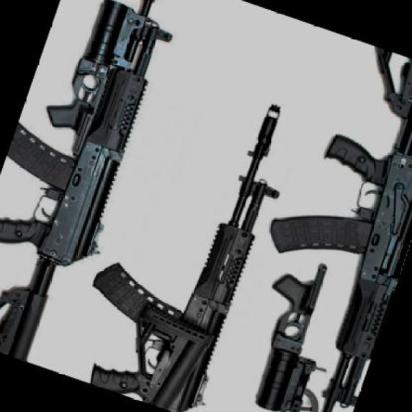Gun: (47, 55, 302, 412), (197, 30, 412, 412), (0, 0, 185, 370)
